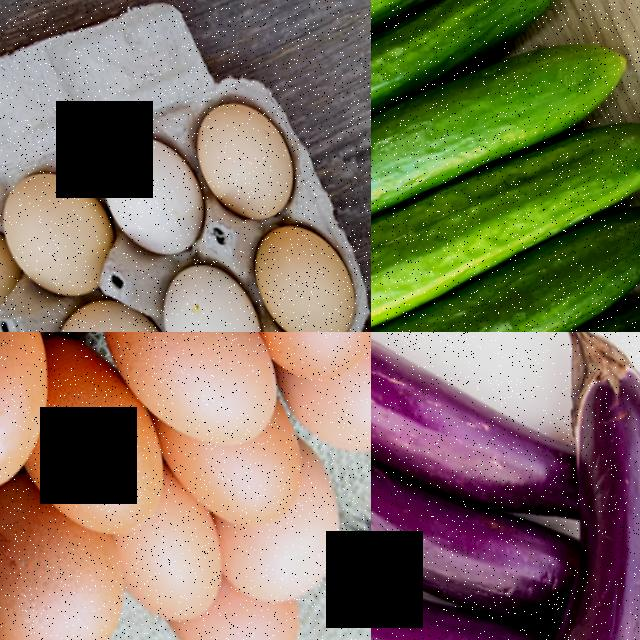cucumber: (371, 0, 640, 310), (371, 38, 640, 332), (371, 0, 598, 236), (371, 146, 640, 332), (371, 0, 563, 166), (371, 215, 640, 332)
egg_: (79, 332, 304, 469), (28, 374, 190, 551), (0, 141, 141, 319), (174, 73, 321, 238), (84, 108, 230, 273), (175, 390, 333, 542), (0, 463, 125, 640), (222, 471, 371, 613), (107, 485, 246, 636), (0, 332, 101, 525), (235, 197, 371, 332), (136, 233, 292, 332), (34, 267, 200, 332), (294, 332, 371, 469), (175, 570, 316, 640)
eggplant: (487, 332, 640, 640), (371, 332, 486, 492), (371, 366, 428, 617)
